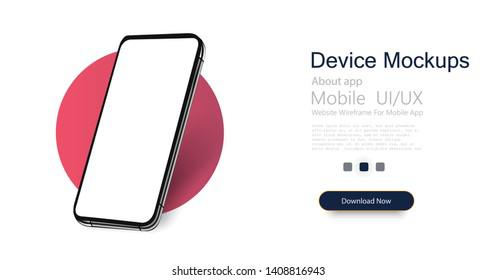mobile: (73, 35, 206, 231)
